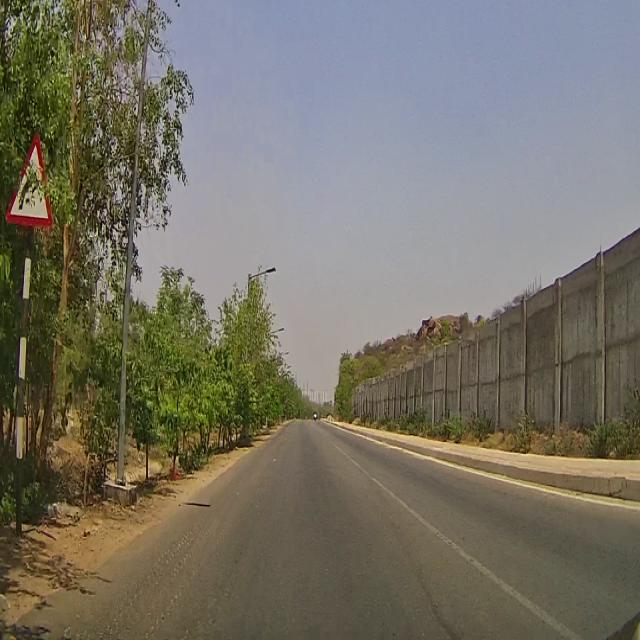right-hand-curve: (12, 129, 51, 247)
